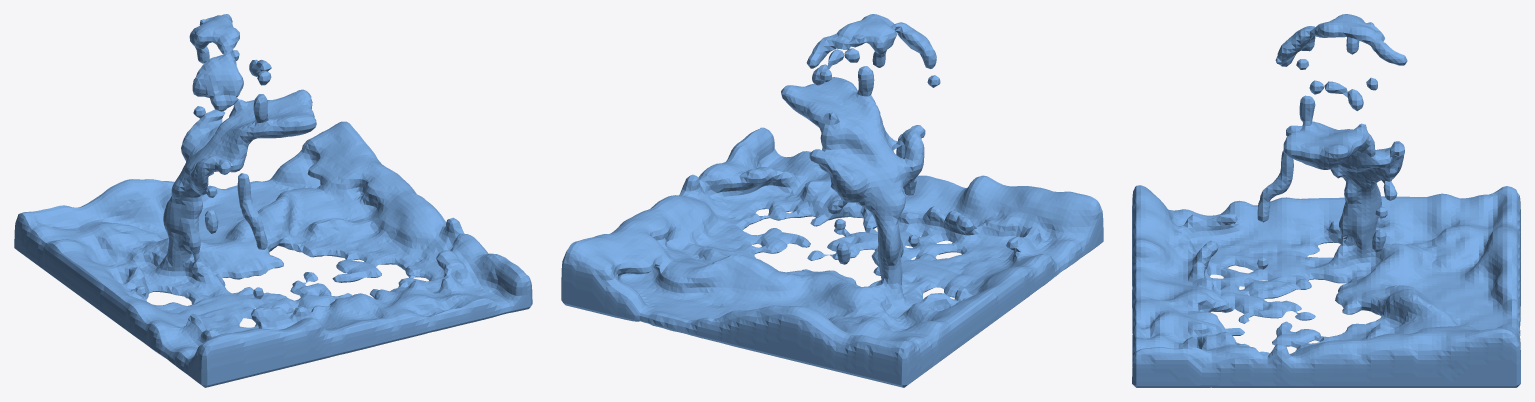
File: water_0092.glb
The picture shows the model from 3 angles, left to right: view 1: azimuth 30°, elevation 25°; view 2: azimuth 150°, elevation 25°; view 3: azimuth 270°, elevation 25°; orthographic projection. The views are drawn at different scales.
Visible parts, largest first — view 1: Water_0092; view 2: Water_0092; view 3: Water_0092.
Part boxes in pixels (<box>): Water_0092: <box>14,14,532,387</box>; Water_0092: <box>561,14,1103,387</box>; Water_0092: <box>1132,14,1520,387</box>.
Bounding box in the file's own units: 4.83 × 3.63 × 4.83.
